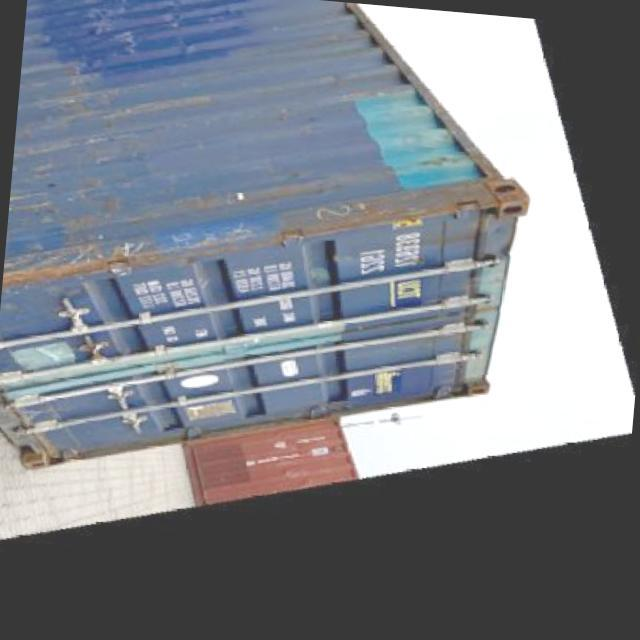dent: (398, 146, 477, 177), (322, 65, 362, 105)
rust: (37, 180, 169, 296), (42, 58, 115, 130), (313, 196, 390, 239)
